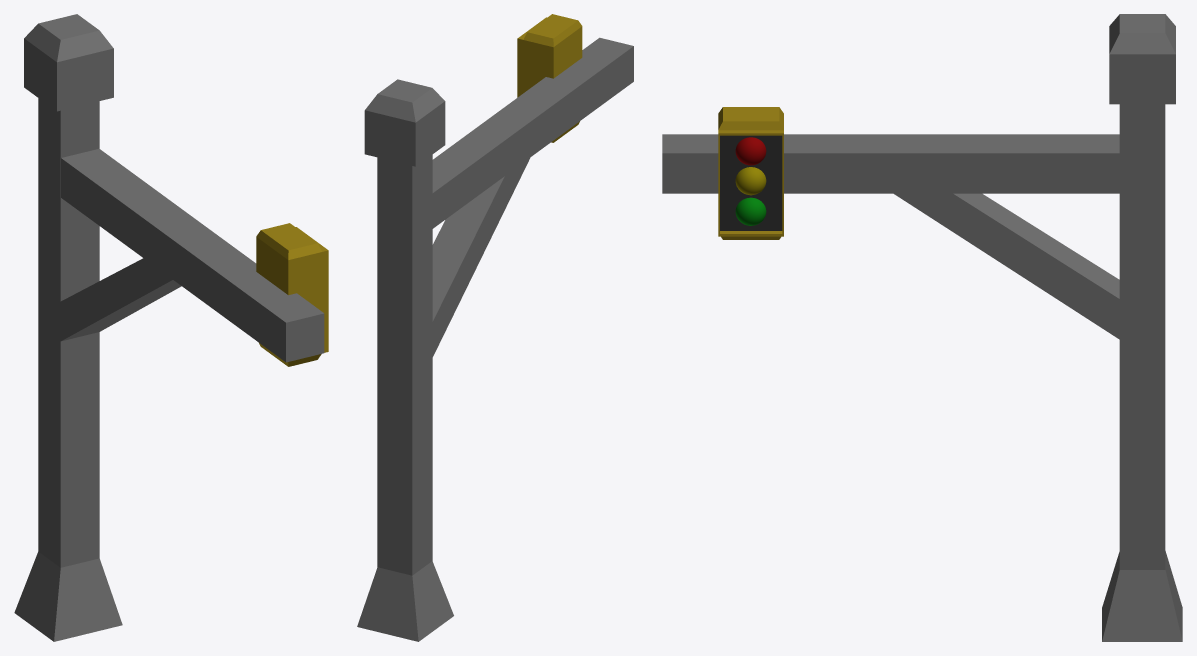
File: stoplight.fbx
3 renders of one model, left to right at view 1: azimuth 30°, elevation 25°; view 2: azimuth 150°, elevation 25°; view 3: azimuth 270°, elevation 25°, orthographic. The views are drawn at different scales.
Parts seen in each view (by area): view 1: Cube, Cube.001; view 2: Cube, Cube.001; view 3: Cube, Cube.001.
Part boxes in pixels (x1,y1,x2,y2): Cube: [14, 14, 324, 641]; Cube.001: [256, 223, 328, 366]; Cube: [357, 37, 633, 641]; Cube.001: [517, 14, 582, 142]; Cube: [662, 14, 1182, 641]; Cube.001: [718, 107, 783, 239].
Size of the model in its own units: 152 by 960 by 753.
